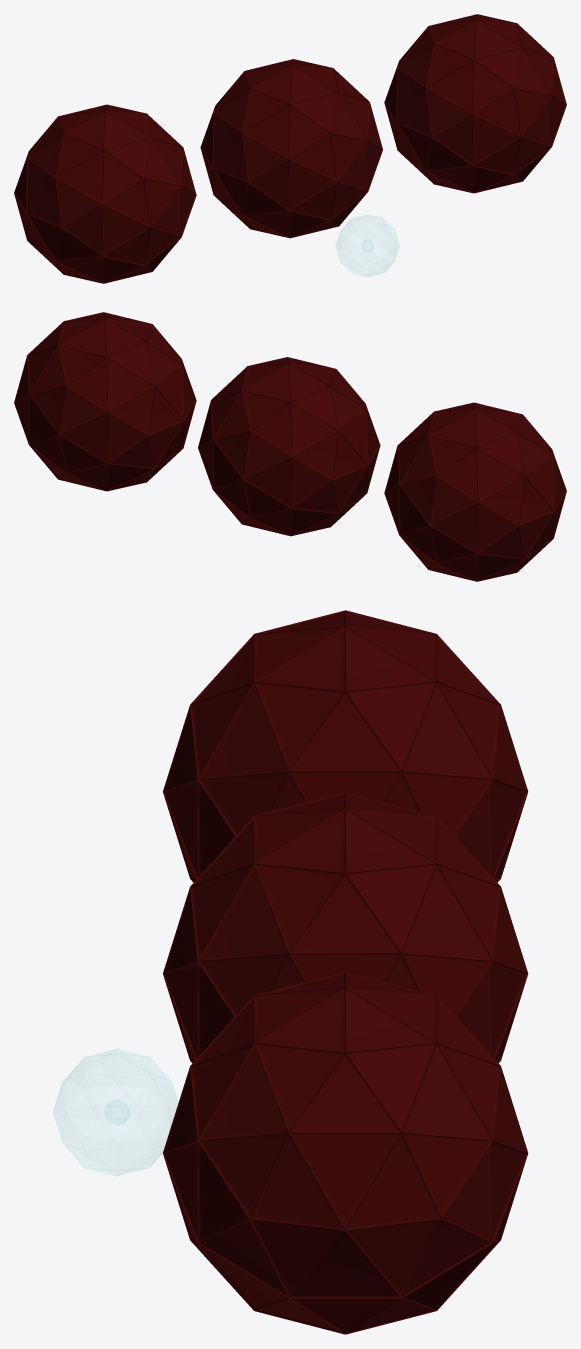
File: translucent-3.dae
The picture shows the model from 3 angles, top to bottom: view 1: azimuth 30°, elevation 25°; view 2: azimuth 150°, elevation 25°; view 3: azimuth 270°, elevation 25°; orthographic projection. The views are drawn at different scales.
Parts seen in each view (by area): view 1: Icosahedron2, Icosahedron1, Icosahedron, Icosahedron3; view 2: Icosahedron2, Icosahedron1, Icosahedron; view 3: Icosahedron2, Icosahedron1, Icosahedron, Icosahedron3.
Part boxes in pixels (x1=…): Icosahedron2: x1=384, y1=14, x2=566, y2=193; Icosahedron1: x1=14, y1=104, x2=196, y2=283; Icosahedron: x1=200, y1=59, x2=382, y2=238; Icosahedron3: x1=336, y1=214, x2=399, y2=277; Icosahedron2: x1=14, y1=312, x2=196, y2=491; Icosahedron1: x1=384, y1=402, x2=566, y2=581; Icosahedron: x1=198, y1=357, x2=380, y2=536; Icosahedron2: x1=163, y1=971, x2=528, y2=1334; Icosahedron1: x1=163, y1=610, x2=528, y2=882; Icosahedron: x1=163, y1=792, x2=528, y2=1063; Icosahedron3: x1=53, y1=1048, x2=177, y2=1176.
Size of what is drawn, in the model's own units: 10.69 by 3.33 by 4.16.
